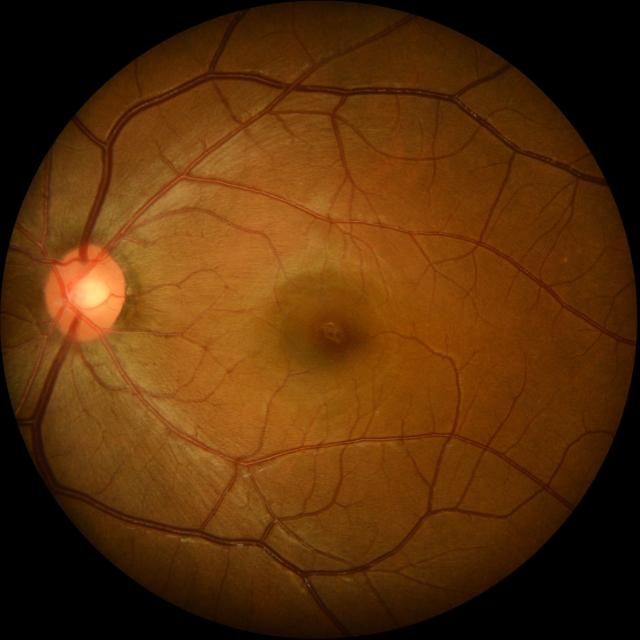OC: (68, 269, 108, 312)
OD: (44, 245, 124, 340)
